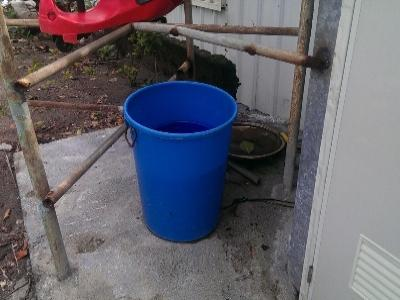bucket: (122, 79, 239, 245)
plate: (227, 119, 287, 163)
